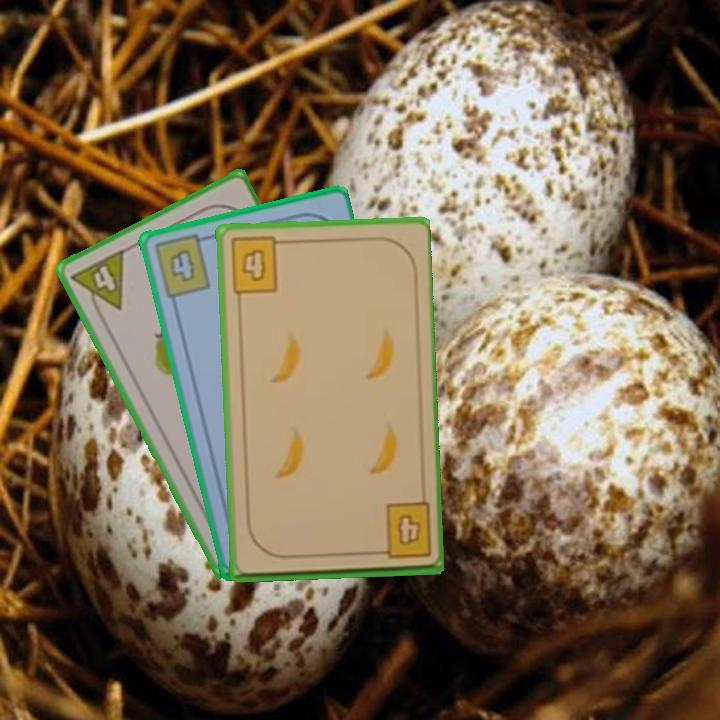4b: (149, 231, 213, 301), (368, 500, 434, 562), (227, 234, 289, 296)
4p: (67, 245, 127, 322)
